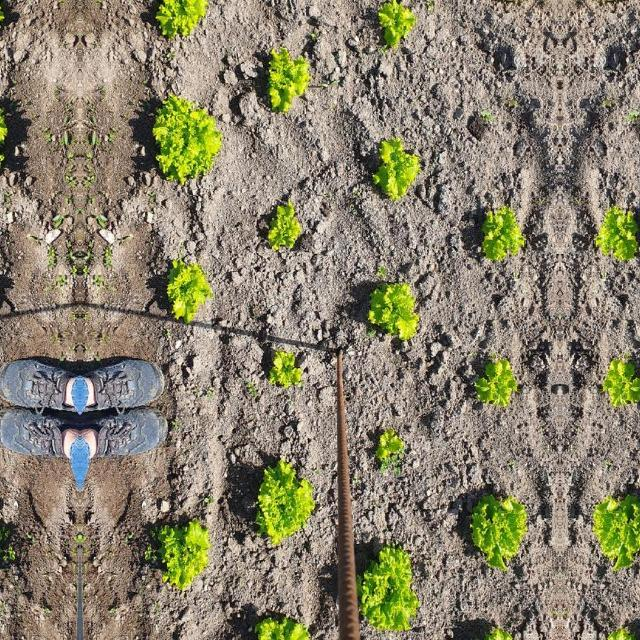healthy: (143, 90, 223, 184), (251, 458, 315, 550), (470, 487, 532, 577), (360, 546, 422, 634), (152, 513, 212, 595), (587, 487, 640, 577), (368, 135, 424, 207), (366, 276, 420, 344), (165, 257, 215, 327), (264, 46, 310, 114), (261, 187, 307, 255), (476, 204, 526, 266), (468, 354, 520, 411), (594, 203, 640, 266), (151, 1, 211, 42), (599, 353, 640, 410), (375, 1, 419, 54), (254, 612, 314, 640), (0, 89, 17, 184), (374, 427, 412, 467), (268, 352, 304, 394), (0, 513, 7, 595), (0, 0, 9, 41)
